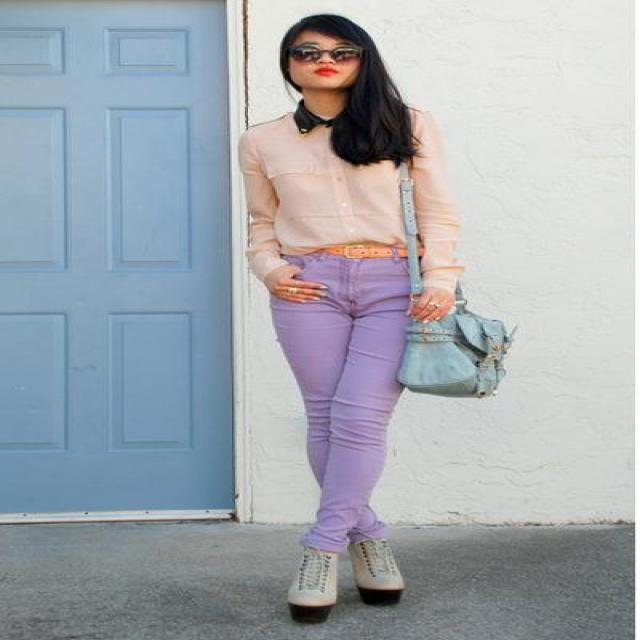bag: (381, 166, 515, 398)
pants: (269, 247, 437, 548)
shirt: (230, 100, 464, 294)
shoe: (288, 527, 408, 624)
